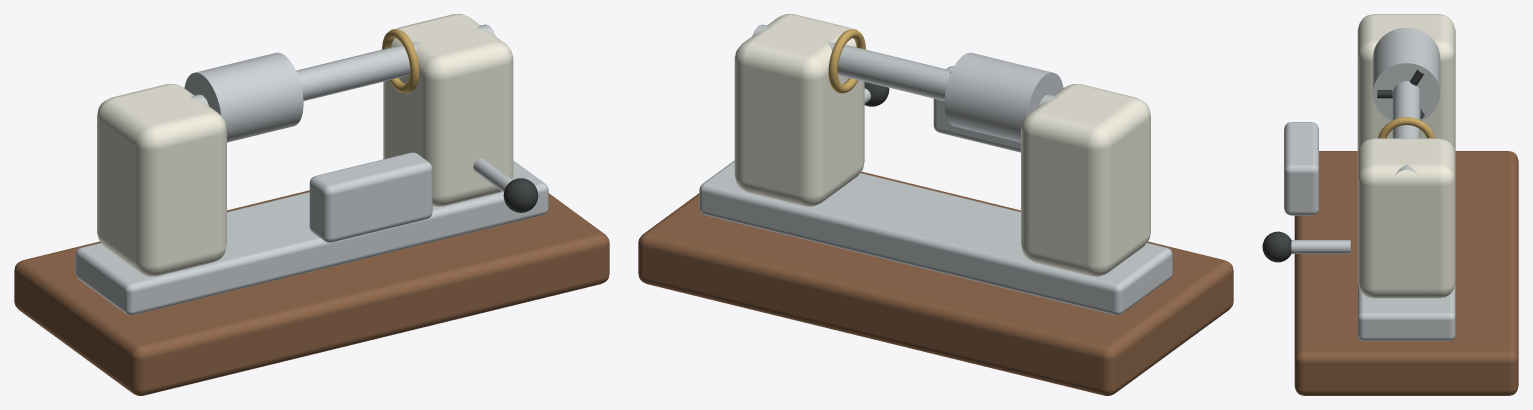
Rendered from clockmaker-and-watch-repair-pivot-polishing-lathe-f82bcf54__30623.glb.
3 renders of one model, left to right at view 1: azimuth 30°, elevation 25°; view 2: azimuth 150°, elevation 25°; view 3: azimuth 270°, elevation 25°, orthographic. The views are drawn at different scales.
Visible parts, largest first — view 1: pivot-polishing-lathe; view 2: pivot-polishing-lathe; view 3: pivot-polishing-lathe.
Boxes of the visible parts, <box> form: pivot-polishing-lathe: <box>14,14,609,395</box>; pivot-polishing-lathe: <box>638,14,1233,395</box>; pivot-polishing-lathe: <box>1262,14,1518,395</box>.
Bounding box in the file's own units: 0.35 × 0.174 × 0.183.
